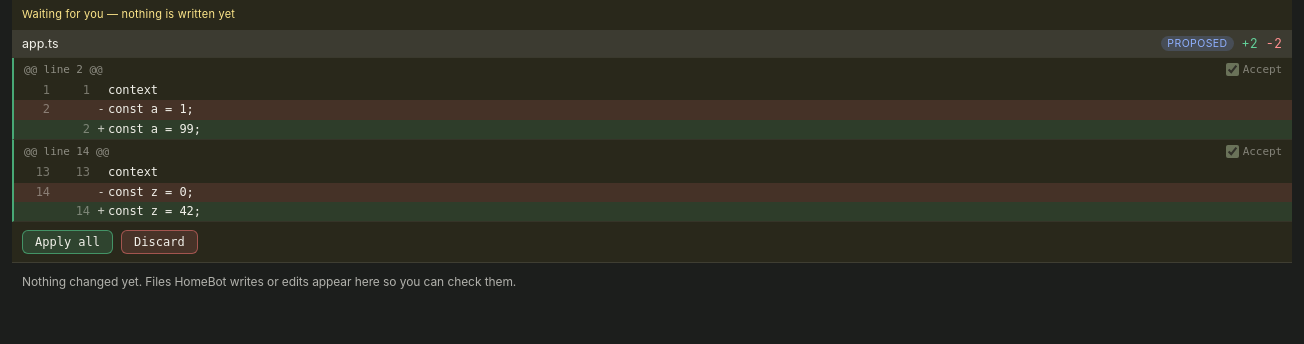
Test case: a refusal from the main process is shown rather than swallowed
Click the button "Apply all" at {"x": 68, "y": 242}, box x1=22 y1=230 x2=113 y2=254
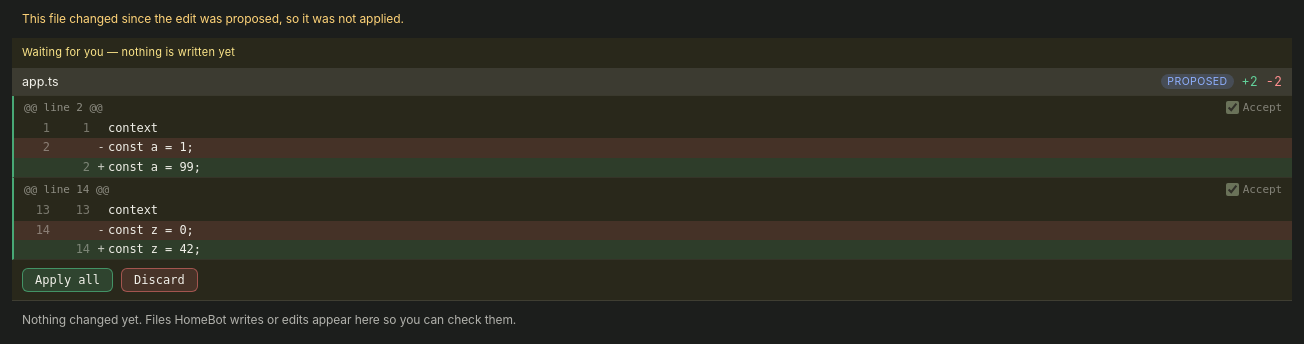
Now the message shows "changed since the edit was proposed", box x1=22 y1=11 x2=404 y2=26
